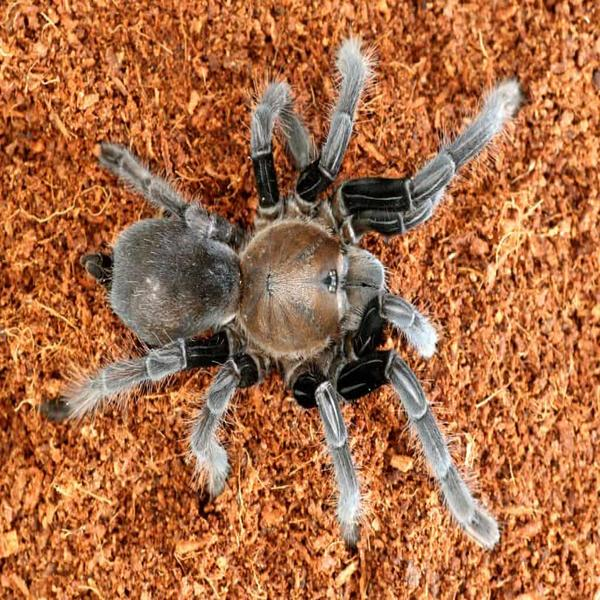Tarantula_Spider: (52, 44, 519, 549)
